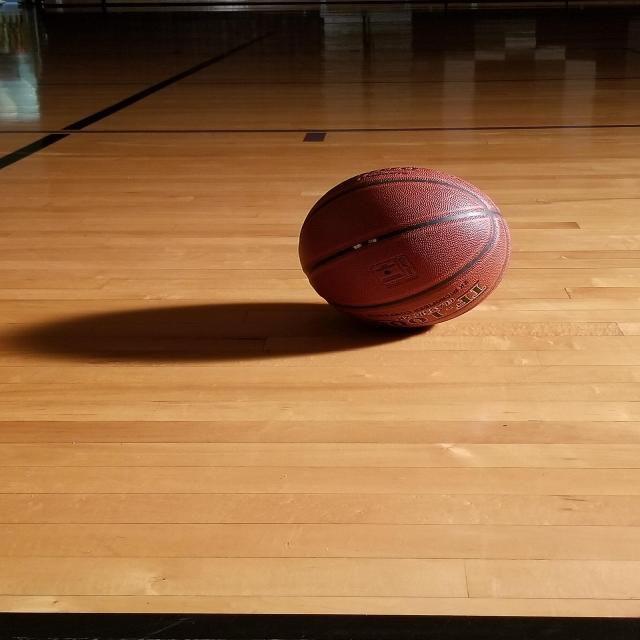Basketball: (300, 172, 514, 332)
